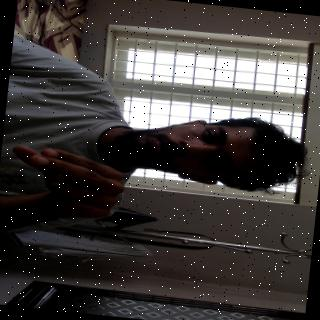No: (0, 128, 153, 255)
